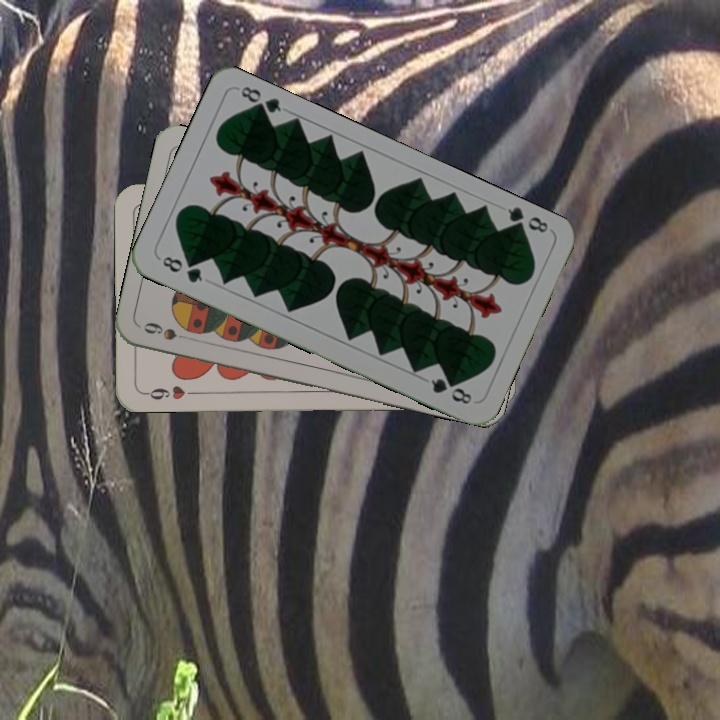G8: (503, 203, 551, 238), (158, 252, 206, 286)
H9: (140, 381, 199, 403)
S9: (139, 318, 180, 343)
